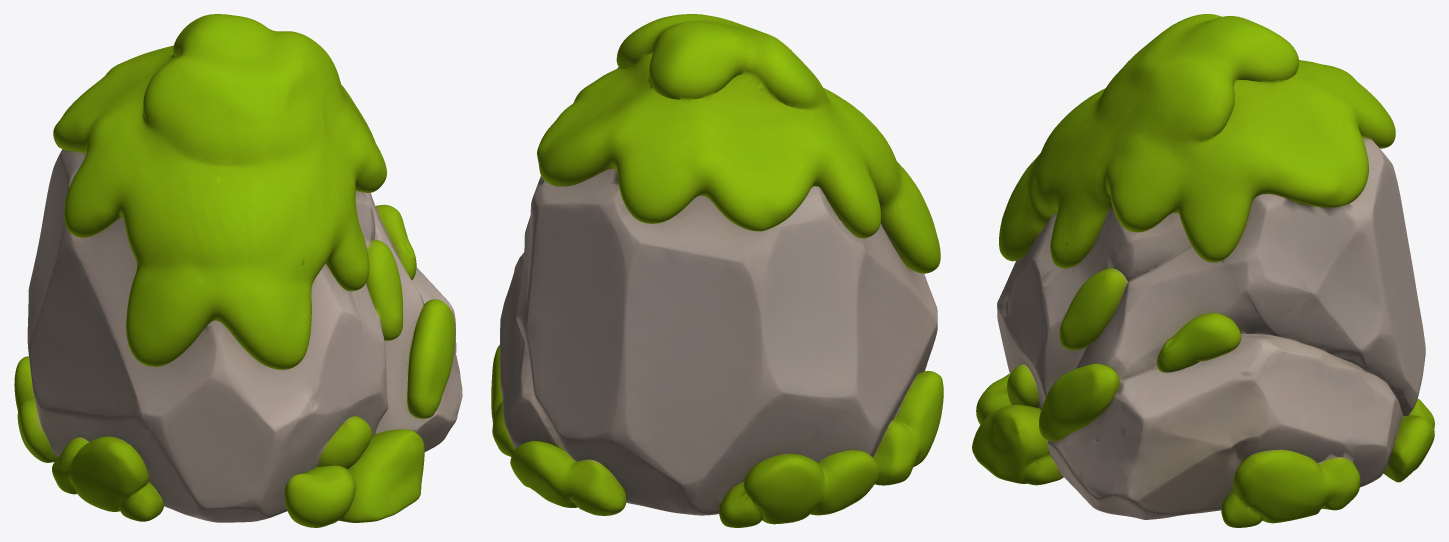
File: rock_mossy.glb
3 views of the same model, side by side, from view 1: azimuth 30°, elevation 25°; view 2: azimuth 150°, elevation 25°; view 3: azimuth 270°, elevation 25° (orthographic). The views are drawn at different scales.
Visible parts, largest first — view 1: tripo_node_773c7dbe-6e37-4f21-a16e-9b837e29b7c6; view 2: tripo_node_773c7dbe-6e37-4f21-a16e-9b837e29b7c6; view 3: tripo_node_773c7dbe-6e37-4f21-a16e-9b837e29b7c6.
Boxes of the visible parts, left/top/right/bottom form: tripo_node_773c7dbe-6e37-4f21-a16e-9b837e29b7c6: left=14, top=14, right=462, bottom=527; tripo_node_773c7dbe-6e37-4f21-a16e-9b837e29b7c6: left=491, top=14, right=943, bottom=527; tripo_node_773c7dbe-6e37-4f21-a16e-9b837e29b7c6: left=972, top=14, right=1434, bottom=527.
Bounding box in the file's own units: 0.6633 × 0.7 × 0.7053.
1 material, 1 textured.
